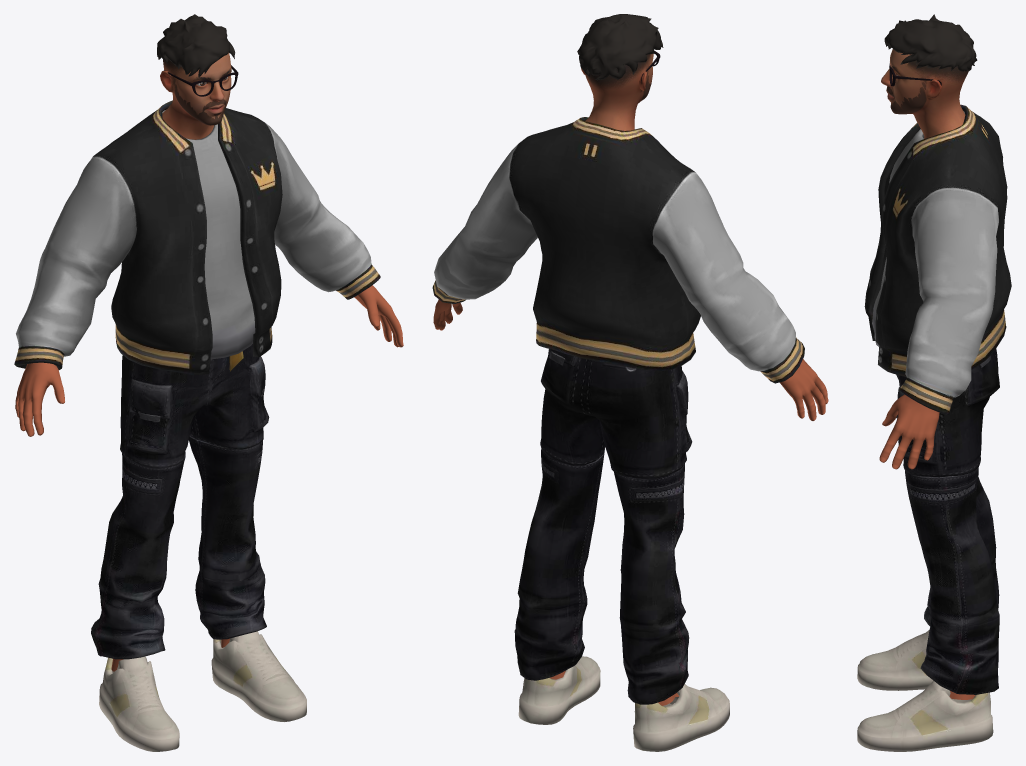
The model's file is rohanModel.gltf.
3 renders of one model, left to right at view 1: azimuth 30°, elevation 25°; view 2: azimuth 150°, elevation 25°; view 3: azimuth 270°, elevation 25°, orthographic.
Visible parts, largest first — view 1: Wolf3D_Outfit_Top, Wolf3D_Outfit_Bottom, Wolf3D_Outfit_Footwear, Wolf3D_Head, Wolf3D_Body, Wolf3D_Hair; view 2: Wolf3D_Outfit_Top, Wolf3D_Outfit_Bottom, Wolf3D_Outfit_Footwear, Wolf3D_Hair, Wolf3D_Head, Wolf3D_Body; view 3: Wolf3D_Outfit_Top, Wolf3D_Outfit_Bottom, Wolf3D_Outfit_Footwear, Wolf3D_Head, Wolf3D_Hair, Wolf3D_Body.
Part boxes in pixels (<box>): Wolf3D_Outfit_Top: <box>14,100,380,374</box>; Wolf3D_Outfit_Bottom: <box>91,344,269,659</box>; Wolf3D_Outfit_Footwear: <box>99,631,306,751</box>; Wolf3D_Head: <box>160,52,231,139</box>; Wolf3D_Body: <box>15,285,403,671</box>; Wolf3D_Hair: <box>157,14,235,77</box>; Wolf3D_Outfit_Top: <box>432,117,804,383</box>; Wolf3D_Outfit_Bottom: <box>514,349,692,704</box>; Wolf3D_Outfit_Footwear: <box>518,656,729,751</box>; Wolf3D_Hair: <box>577,14,663,80</box>; Wolf3D_Head: <box>581,54,653,130</box>; Wolf3D_Body: <box>433,299,828,705</box>; Wolf3D_Outfit_Top: <box>864,104,1011,414</box>; Wolf3D_Outfit_Bottom: <box>896,348,999,694</box>; Wolf3D_Outfit_Footwear: <box>857,630,993,751</box>; Wolf3D_Head: <box>881,49,968,138</box>; Wolf3D_Hair: <box>884,14,977,71</box>; Wolf3D_Body: <box>879,394,974,699</box>.
Bounding box in the file's own units: 1.06 × 1.87 × 0.3772.
10 materials, 10 textured.
